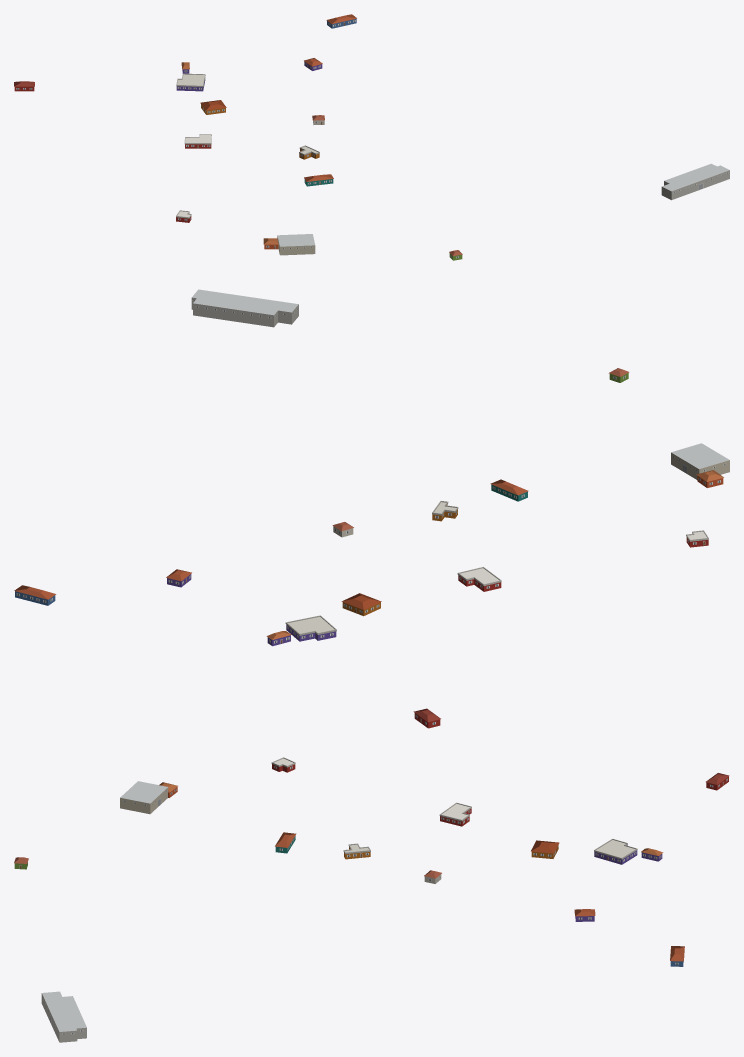
File: msb_palmbeach_m21_m10.glb
3 renders of one model, top to bottom at view 1: azimuth 30°, elevation 25°; view 2: azimuth 150°, elevation 25°; view 3: azimuth 270°, elevation 25°, orthographic. The views are drawn at different scales.
Parts seen in each view (by area): view 1: msb_palmbeach_m21_m10_lod0; view 2: msb_palmbeach_m21_m10_lod0; view 3: msb_palmbeach_m21_m10_lod0.
Boxes of the visible parts, bbox=[...] form: msb_palmbeach_m21_m10_lod0: bbox=[14, 14, 729, 260]; msb_palmbeach_m21_m10_lod0: bbox=[14, 289, 729, 728]; msb_palmbeach_m21_m10_lod0: bbox=[14, 757, 729, 1042].
Size of what is drawn, in the model's own units: 349 by 10.9 by 383.
3 materials, 1 textured.
